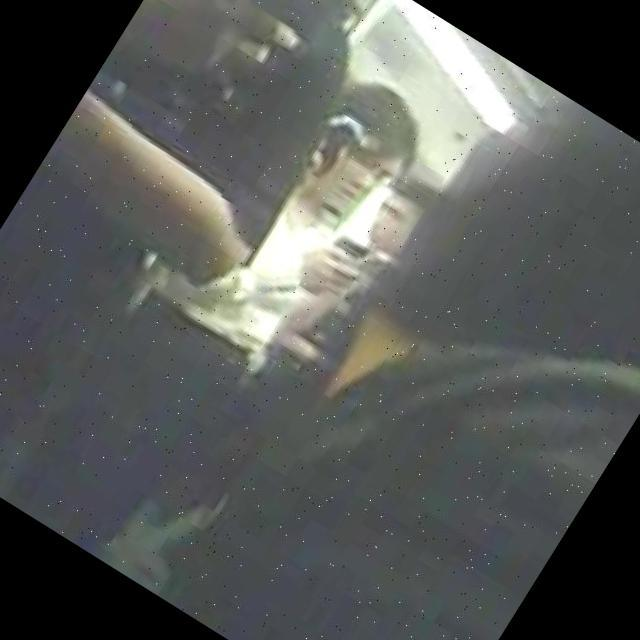person: (16, 31, 443, 588), (0, 0, 410, 542), (258, 155, 458, 404)
